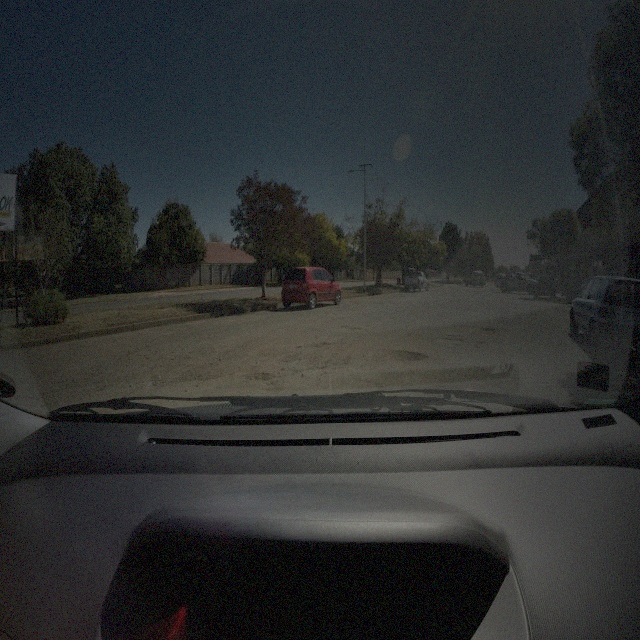pothole: (386, 347, 428, 363), (246, 369, 277, 383), (313, 339, 330, 348), (484, 326, 497, 333), (455, 337, 465, 344), (350, 326, 362, 331), (478, 340, 487, 346)
